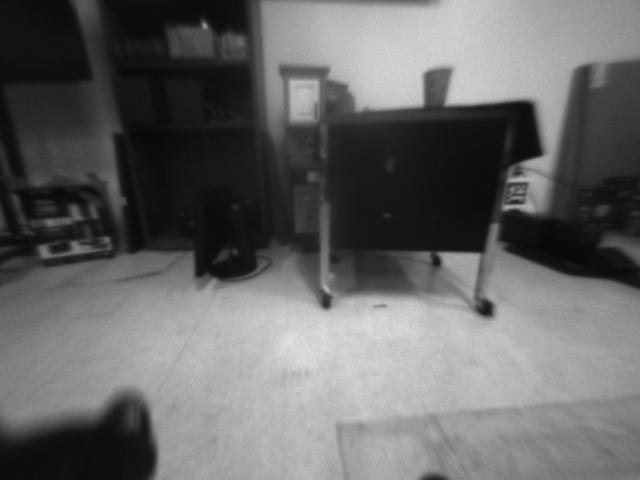coffee_cup: (419, 66, 452, 107)
